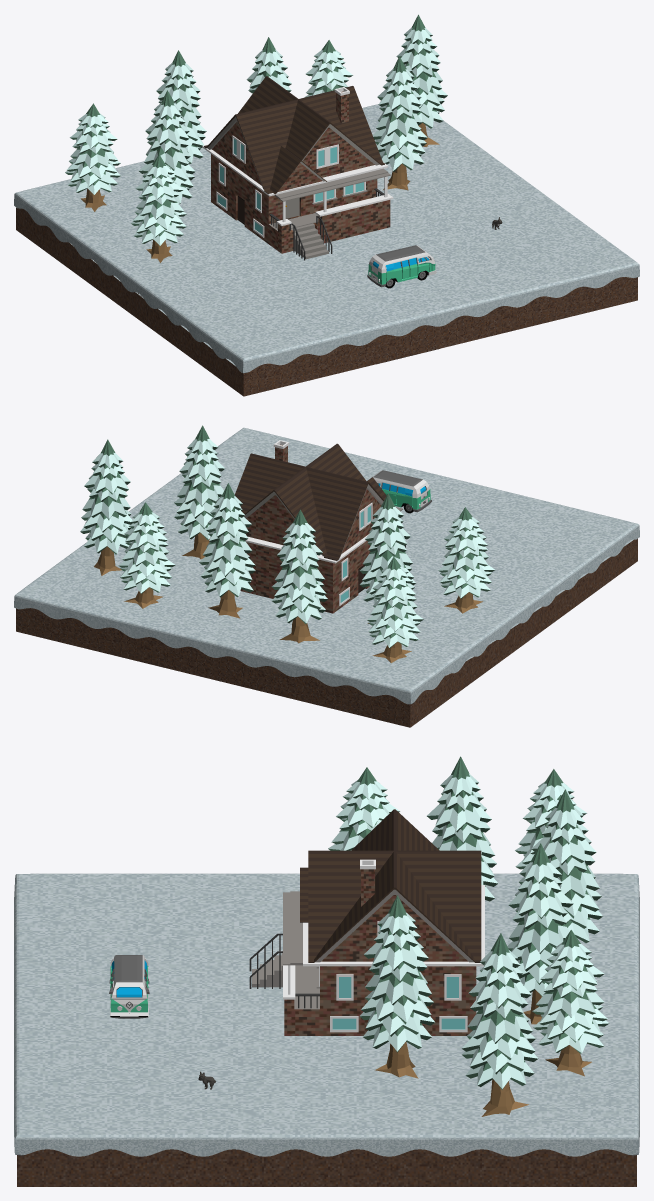
3 views of the same model, one above another, from view 1: azimuth 30°, elevation 25°; view 2: azimuth 150°, elevation 25°; view 3: azimuth 270°, elevation 25° (orthographic). The views are drawn at different scales.
Parts seen in each view (by area): view 1: Cube.003, Cube.117, VEHICLES_VAN; view 2: Cube.003, Cube.117, VEHICLES_VAN; view 3: Cube.003, Cube.117, VEHICLES_VAN.
Boxes of the visible parts, x1=… form: Cube.003: x1=14, y1=14, x2=639, y2=396; Cube.117: x1=202, y1=76, x2=393, y2=260; VEHICLES_VAN: x1=367, y1=245, x2=436, y2=288; Cube.003: x1=14, y1=425, x2=639, y2=727; Cube.117: x1=235, y1=440, x2=405, y2=613; VEHICLES_VAN: x1=372, y1=470, x2=431, y2=513; Cube.003: x1=14, y1=756, x2=639, y2=1186; Cube.117: x1=249, y1=809, x2=484, y2=1035; VEHICLES_VAN: x1=109, y1=955, x2=149, y2=1018.
Bounding box in the file's own units: 4040 × 1692 × 4040.
Materials: 35 (4 with a texture image).
